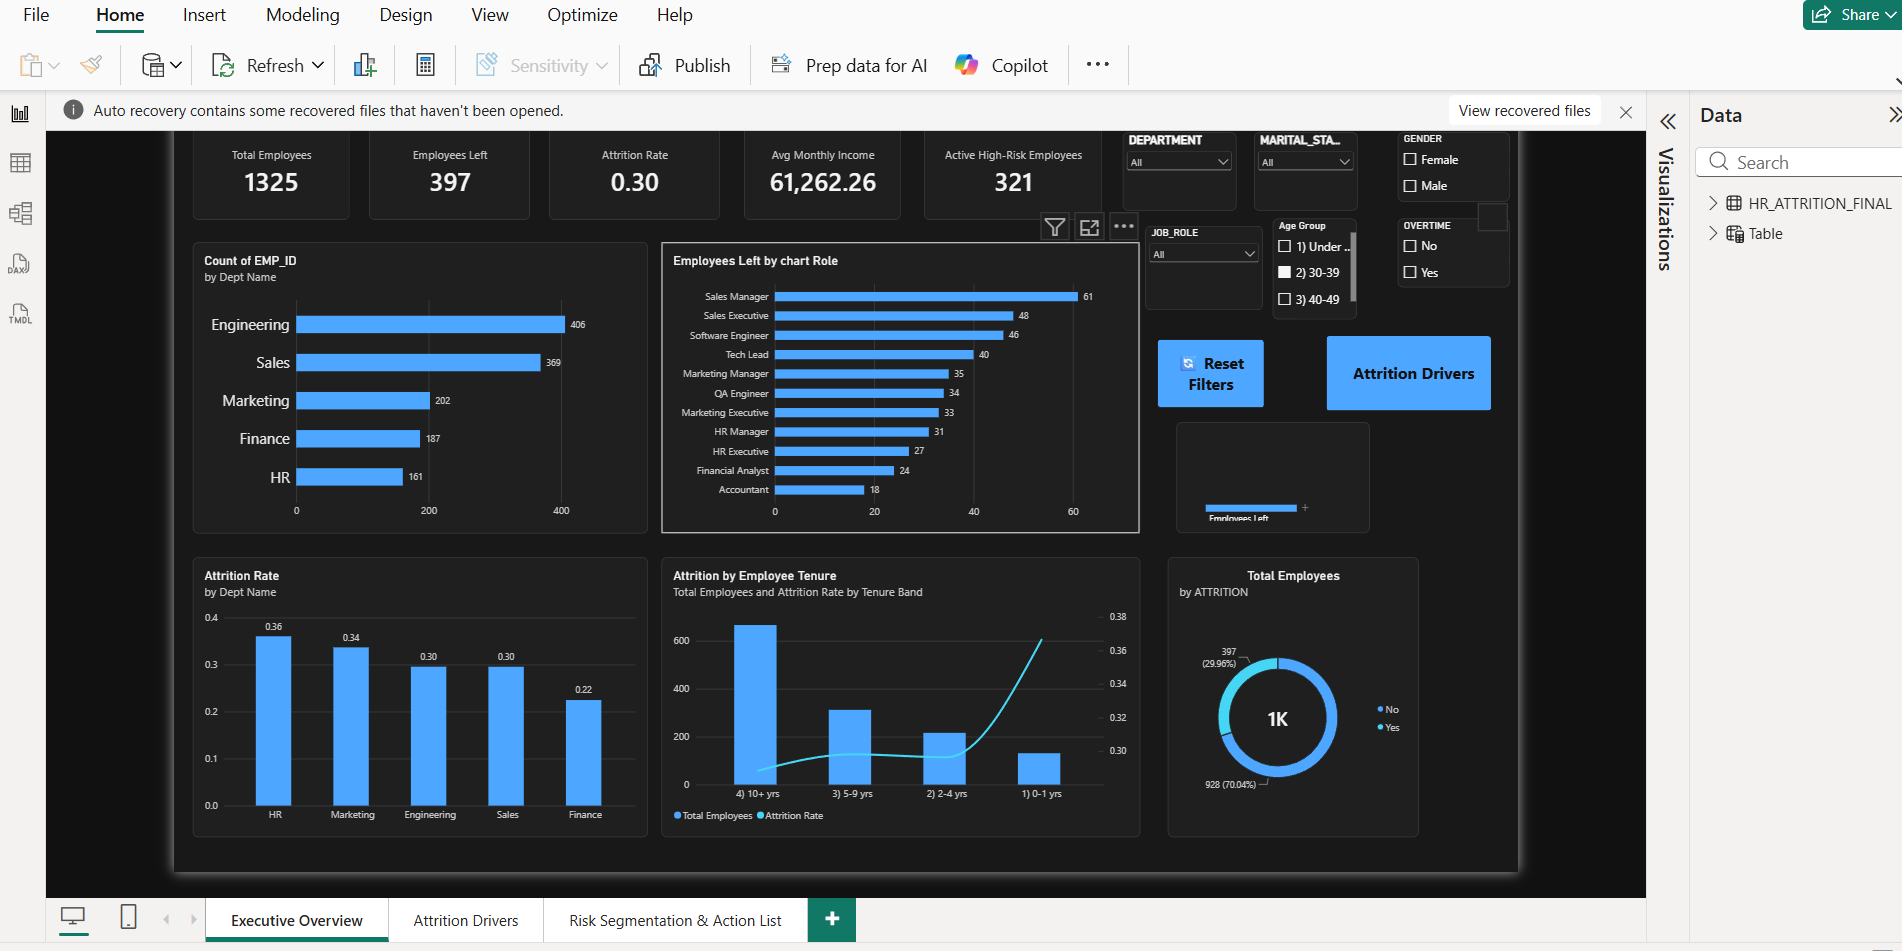

This screenshot's page, from the dashboard's own definition file:
{"tool":"powerbi","page":{"name":"Executive Overview","canvas":[1920,1080],"ordinal":0},"visuals":[{"type":"cardVisual","fields":{"Data":["Table.Total Employees"]},"box":[26,12,224,136],"z":0},{"type":"cardVisual","fields":{"Data":["Table.Employees Left"]},"box":[278,12,230,136],"z":1000},{"type":"cardVisual","fields":{"Data":["Table.Attrition Rate"]},"box":[536,12,244,136],"z":2000},{"type":"barChart","fields":{"Category":["HR_ATTRITION_FINAL.Dept Name"],"Y":["CountNonNull(HR_ATTRITION_FINAL.EMP_ID)"]},"box":[26,180,650,416],"z":3000},{"type":"cardVisual","fields":{"Data":["Table.Avg Monthly Income"]},"box":[814,12,224,136],"z":4000},{"type":"cardVisual","fields":{"Data":["Table.Active High-Risk Employees"]},"box":[1072,12,254,136],"z":5000},{"type":"slicer","fields":{"Values":["HR_ATTRITION_FINAL.DEPARTMENT"]},"box":[1356,24,162,112],"z":6000},{"type":"slicer","fields":{"Values":["HR_ATTRITION_FINAL.JOB_ROLE"]},"box":[1388,158,168,120],"z":7000},{"type":"slicer","fields":{"Values":["HR_ATTRITION_FINAL.OVERTIME"]},"box":[1748,146,160,98],"z":8000},{"type":"slicer","fields":{"Values":["HR_ATTRITION_FINAL.Age Group"]},"box":[1570,146,120,144],"z":9000},{"type":"slicer","fields":{"Values":["HR_ATTRITION_FINAL.MARITAL_STATUS"]},"box":[1542,24,148,112],"z":10000},{"type":"slicer","fields":{"Values":["HR_ATTRITION_FINAL.GENDER"]},"box":[1748,24,159.9,99.2],"z":11000},{"type":"clusteredColumnChart","fields":{"Category":["HR_ATTRITION_FINAL.Dept Name"],"Y":["Table.Attrition Rate"]},"box":[26,630,650,400],"z":12000},{"type":"donutChart","fields":{"Category":["HR_ATTRITION_FINAL.ATTRITION"],"Y":["Table.Total Employees"]},"box":[1420,630,358,400],"z":13000},{"type":"clusteredBarChart","title":"Employees Left by chart Role","fields":{"Category":["HR_ATTRITION_FINAL.JOB_ROLE"],"Y":["Table.Employees Left"]},"box":[696,180,684,416],"z":14000},{"type":"lineClusteredColumnComboChart","title":"Attrition by Employee Tenure","fields":{"Category":["HR_ATTRITION_FINAL.Tenure Band"],"Y":["Table.Total Employees"],"Y2":["Table.Attrition Rate"]},"box":[696,630,684,400],"z":15000},{"type":"decompositionTreeVisual","fields":{"Analyze":["Table.Employees Left"],"ExplainBy":["HR_ATTRITION_FINAL.DEPARTMENT","HR_ATTRITION_FINAL.JOB_ROLE","HR_ATTRITION_FINAL.OVERTIME","HR_ATTRITION_FINAL.Tenure Band","HR_ATTRITION_FINAL.Income Band"]},"box":[1432,438,276,158],"z":16000},{"type":"actionButton","box":[1405,320,151.7,96.7],"z":17000},{"type":"actionButton","box":[1646.7,315,235,106.7],"z":18000}]}

Visuals, with their boxes on the page's 1920x1080 design canvas (x1, y1, x2, y2). These are canvas units, not pixel positions in the 1902x951 screenshot, which may show the page scaled, cropped or inside an application window:
cardVisual - Table.Total Employees: {"left": 26, "top": 12, "right": 250, "bottom": 148}
cardVisual - Table.Employees Left: {"left": 278, "top": 12, "right": 508, "bottom": 148}
cardVisual - Table.Attrition Rate: {"left": 536, "top": 12, "right": 780, "bottom": 148}
barChart - HR_ATTRITION_FINAL.Dept Name x CountNonNull(HR_ATTRITION_FINAL.EMP_ID): {"left": 26, "top": 180, "right": 676, "bottom": 596}
cardVisual - Table.Avg Monthly Income: {"left": 814, "top": 12, "right": 1038, "bottom": 148}
cardVisual - Table.Active High-Risk Employees: {"left": 1072, "top": 12, "right": 1326, "bottom": 148}
slicer - HR_ATTRITION_FINAL.DEPARTMENT: {"left": 1356, "top": 24, "right": 1518, "bottom": 136}
slicer - HR_ATTRITION_FINAL.JOB_ROLE: {"left": 1388, "top": 158, "right": 1556, "bottom": 278}
slicer - HR_ATTRITION_FINAL.OVERTIME: {"left": 1748, "top": 146, "right": 1908, "bottom": 244}
slicer - HR_ATTRITION_FINAL.Age Group: {"left": 1570, "top": 146, "right": 1690, "bottom": 290}
slicer - HR_ATTRITION_FINAL.MARITAL_STATUS: {"left": 1542, "top": 24, "right": 1690, "bottom": 136}
slicer - HR_ATTRITION_FINAL.GENDER: {"left": 1748, "top": 24, "right": 1908, "bottom": 123}
clusteredColumnChart - HR_ATTRITION_FINAL.Dept Name x Table.Attrition Rate: {"left": 26, "top": 630, "right": 676, "bottom": 1030}
donutChart - HR_ATTRITION_FINAL.ATTRITION x Table.Total Employees: {"left": 1420, "top": 630, "right": 1778, "bottom": 1030}
"Employees Left by chart Role" clusteredBarChart: {"left": 696, "top": 180, "right": 1380, "bottom": 596}
"Attrition by Employee Tenure" lineClusteredColumnComboChart: {"left": 696, "top": 630, "right": 1380, "bottom": 1030}
decompositionTreeVisual - Table.Employees Left x HR_ATTRITION_FINAL.DEPARTMENT: {"left": 1432, "top": 438, "right": 1708, "bottom": 596}
actionButton: {"left": 1405, "top": 320, "right": 1557, "bottom": 417}
actionButton: {"left": 1647, "top": 315, "right": 1882, "bottom": 422}
